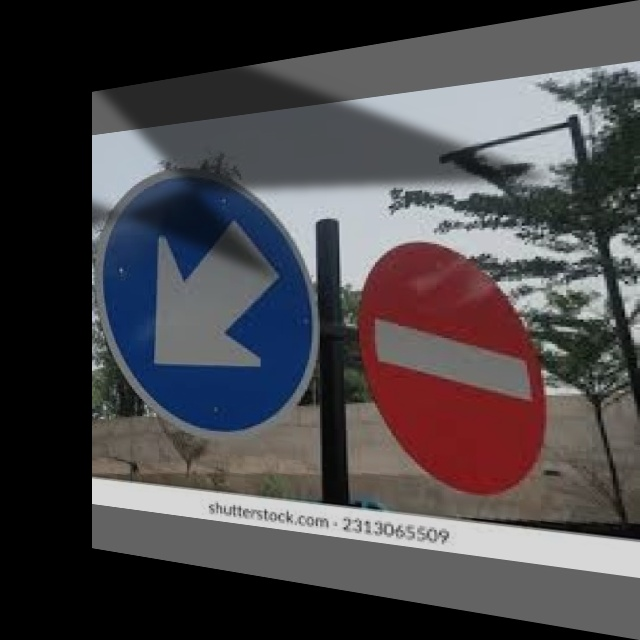Compulsory_Keep_Left: (100, 160, 325, 426)
